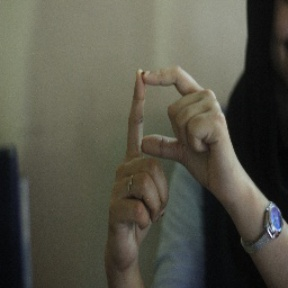D: (115, 64, 216, 172)
